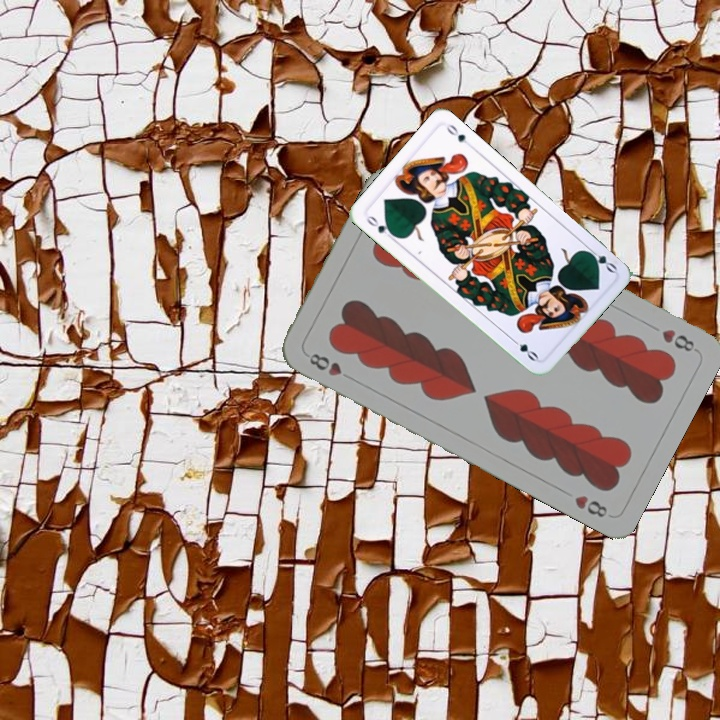GO: (582, 243, 619, 275), (362, 211, 398, 243)
H8: (305, 349, 357, 383), (657, 325, 700, 355)
